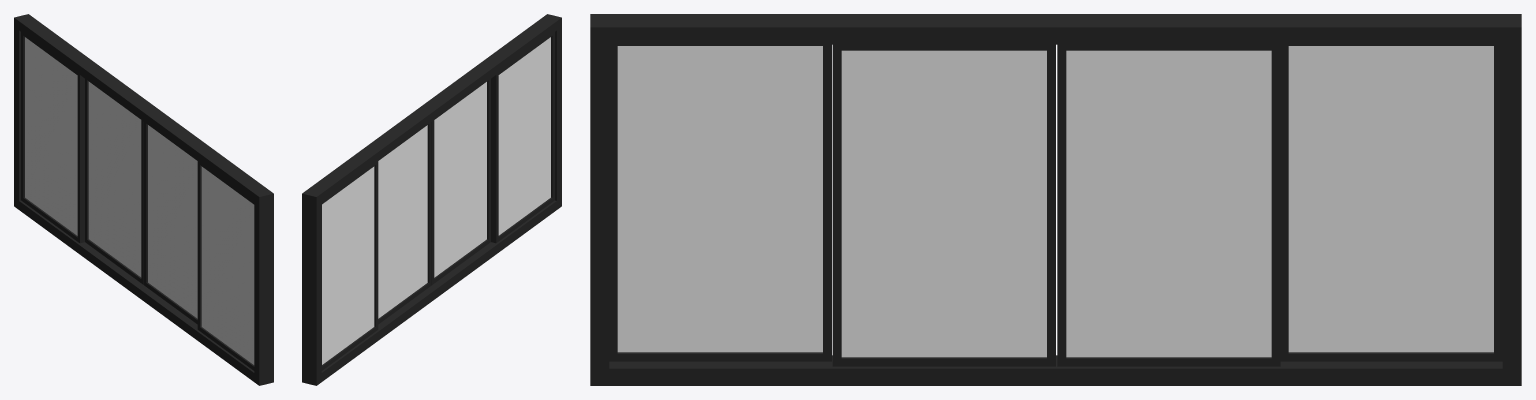
File: Window.fbx
The picture shows the model from 3 angles, left to right: view 1: azimuth 30°, elevation 25°; view 2: azimuth 150°, elevation 25°; view 3: azimuth 270°, elevation 25°; orthographic projection. The views are drawn at different scales.
Parts seen in each view (by area): view 1: Window_Frame, Window_Panel_Left, Window_Panel_Right, Window_Panel_Middle_Left, Window_Panel_Middle_Right; view 2: Window_Frame, Window_Panel_Right, Window_Panel_Middle_Right, Window_Panel_Left, Window_Panel_Middle_Left; view 3: Window_Panel_Middle_Left, Window_Panel_Middle_Right, Window_Panel_Right, Window_Panel_Left, Window_Frame.
Part boxes in pixels (box(x1,y1,x2,y2)): Window_Frame: box(14, 14, 273, 385); Window_Panel_Left: box(21, 32, 84, 243); Window_Panel_Right: box(197, 161, 254, 370); Window_Panel_Middle_Left: box(85, 79, 143, 284); Window_Panel_Middle_Right: box(144, 122, 197, 324); Window_Frame: box(302, 14, 561, 385); Window_Panel_Right: box(491, 32, 554, 243); Window_Panel_Middle_Right: box(431, 79, 490, 284); Window_Panel_Left: box(321, 161, 378, 370); Window_Panel_Middle_Left: box(378, 122, 431, 324); Window_Panel_Middle_Left: box(1057, 44, 1280, 366); Window_Panel_Middle_Right: box(832, 44, 1055, 366); Window_Panel_Right: box(609, 44, 831, 361); Window_Panel_Left: box(1280, 44, 1502, 361); Window_Frame: box(590, 14, 1521, 385).
Bounding box in the file's own units: 15 × 186 × 438.
